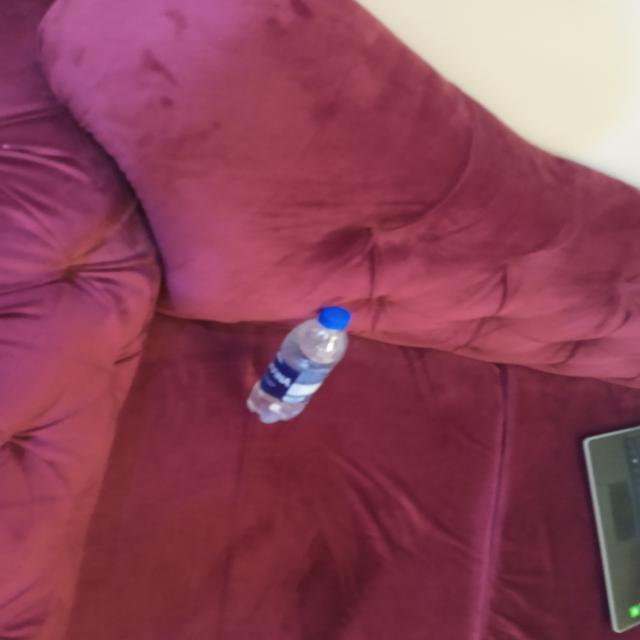Plastic: (242, 298, 363, 429)
